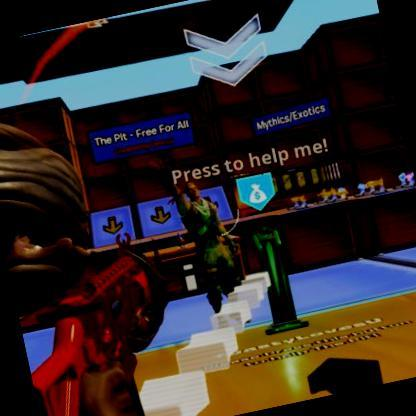Person: (170, 173, 258, 343)
